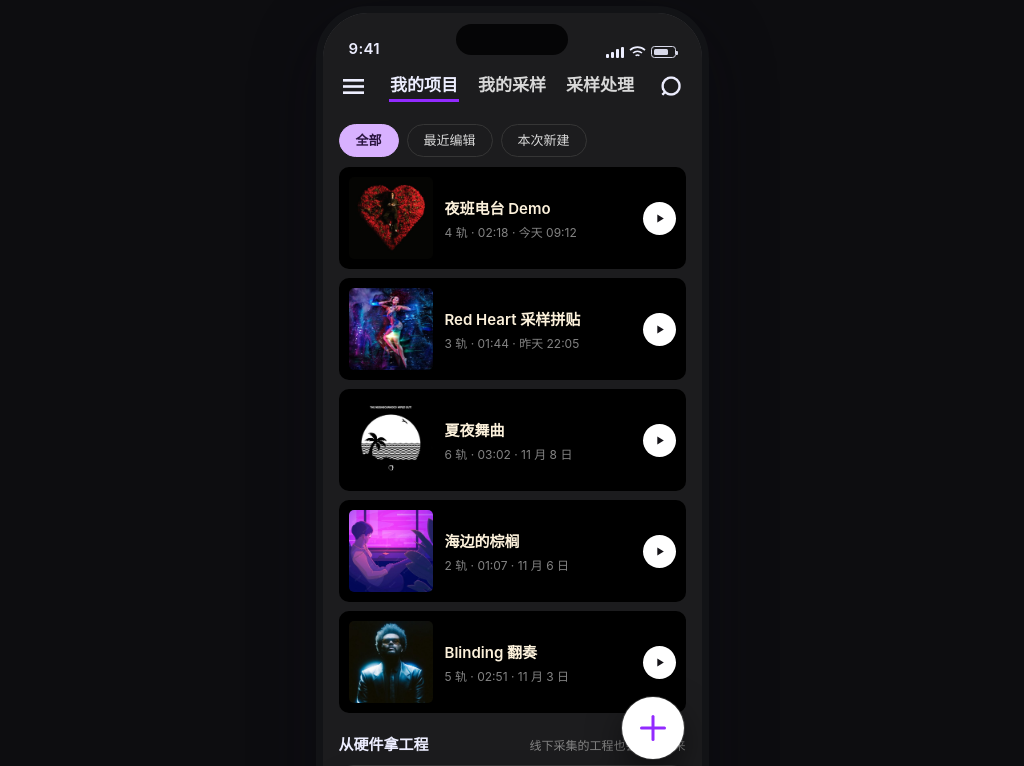
Test case: toggles the device connection from the drawer
Click the button named "打开侧边菜单" at coordinates (354, 86), box [336, 69, 370, 103]
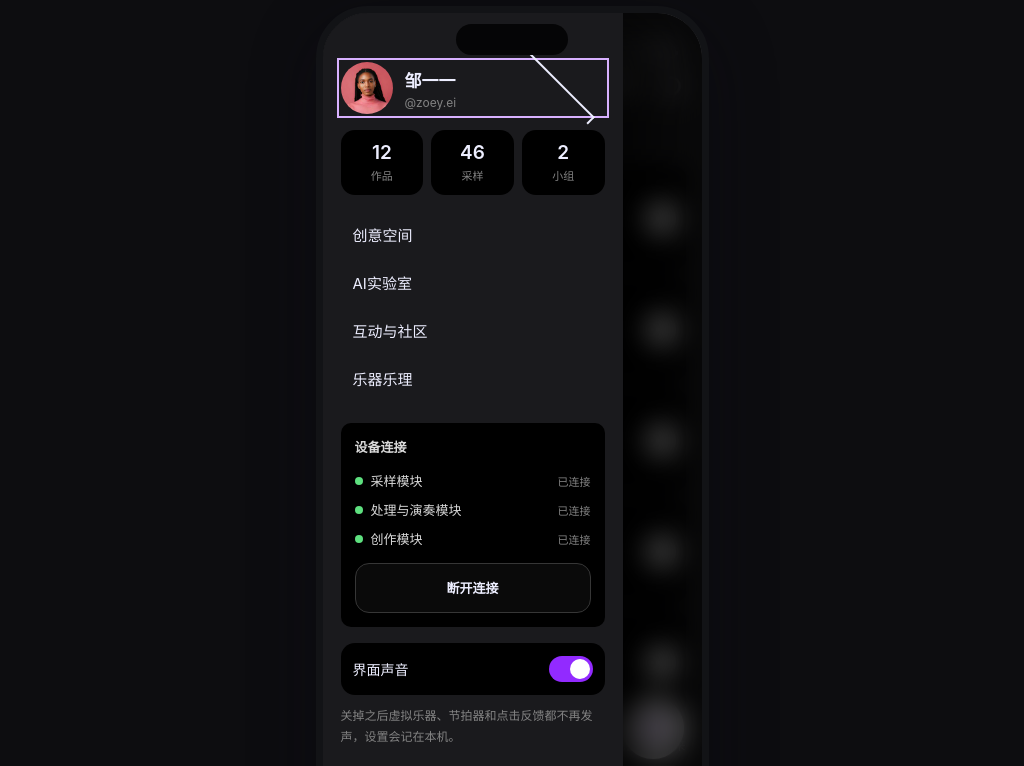
Check: the text "已连接" is shown 3 times, box [558, 472, 590, 488]; [558, 502, 590, 518]; [558, 530, 590, 546]
Click the button "断开连接" at coordinates (472, 588), box [354, 563, 590, 613]
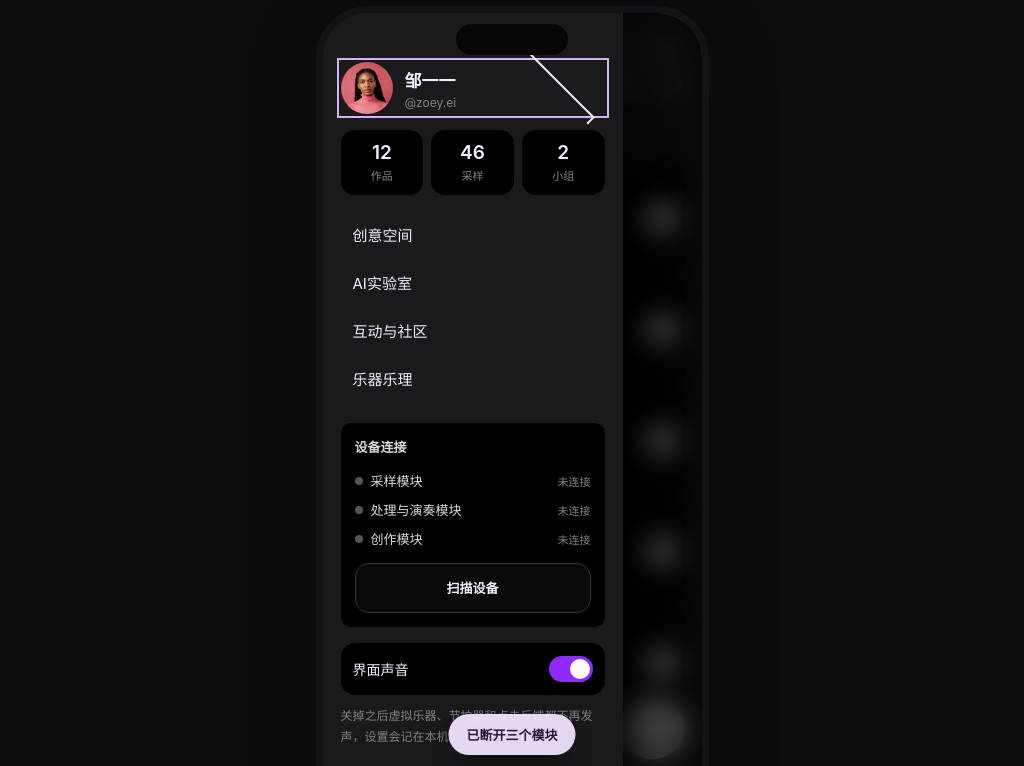
Check: the text "未连接" is shown 3 times, box [558, 472, 590, 488]; [558, 502, 590, 518]; [558, 530, 590, 546]
Check: the message reads "已断开三个模块", box [466, 727, 558, 743]
